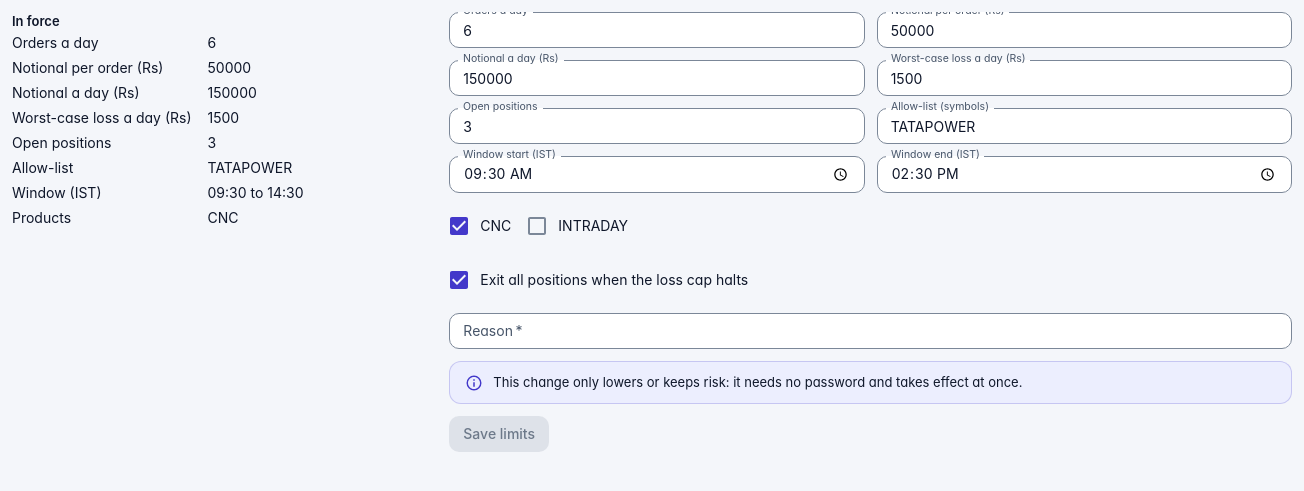
Test case: Limits form › shows the server field errors next to the field
Replace the text in the number field labelled "Worst-case loss a day (Rs)" with "1000" at (1084, 78), box [877,60,1292,96]
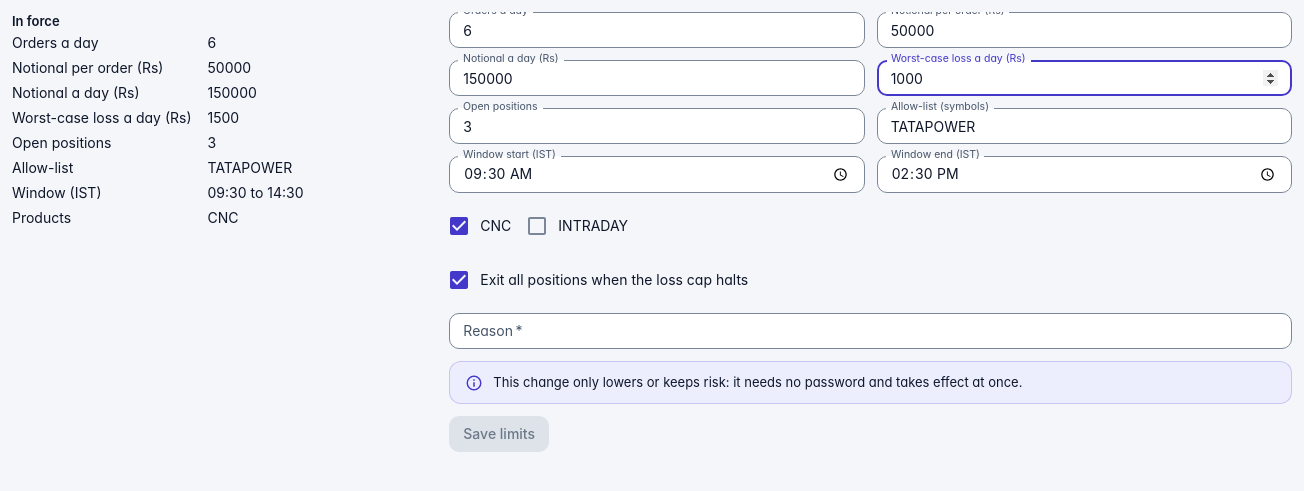
Type "x" into the field labelled "Reason *" at (871, 331), box [449,312,1292,349]
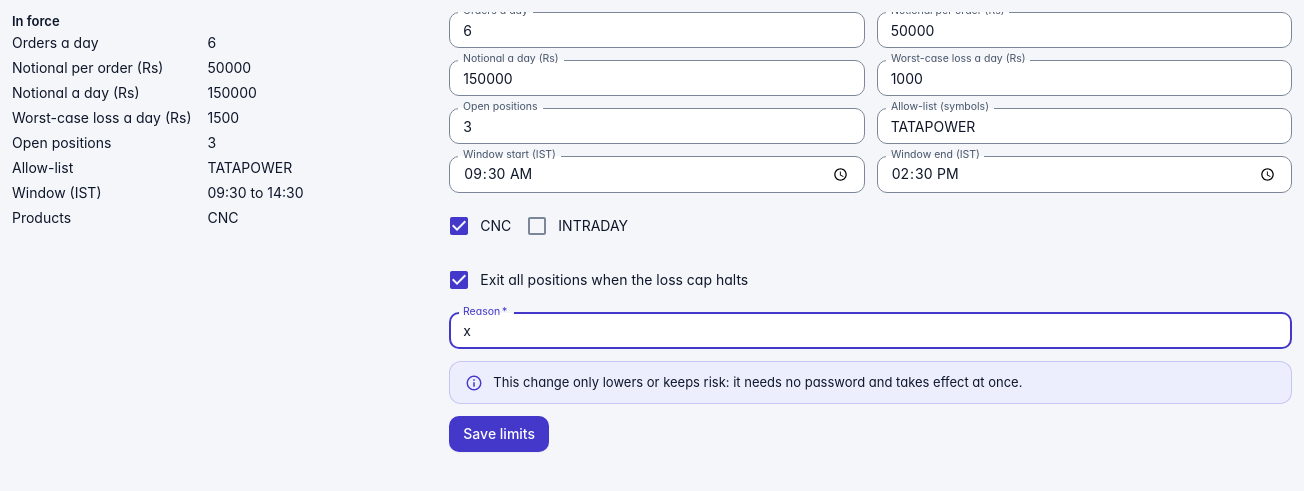
Click the button "Save limits" at (499, 434), box [449,416,549,452]
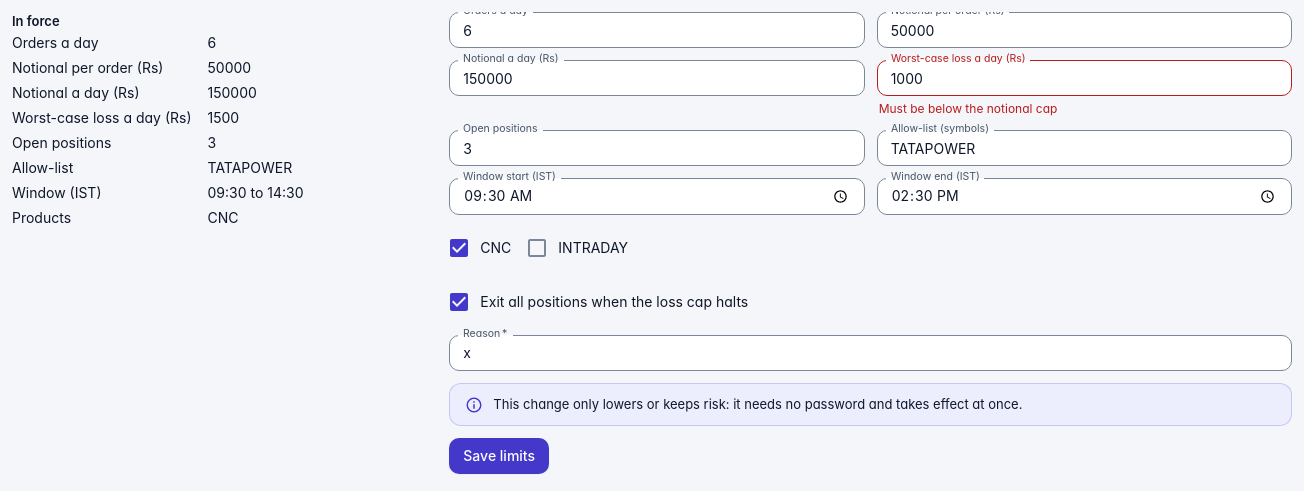
Now the text "Must be below the notional cap" is shown, box [879,101,1057,116]
